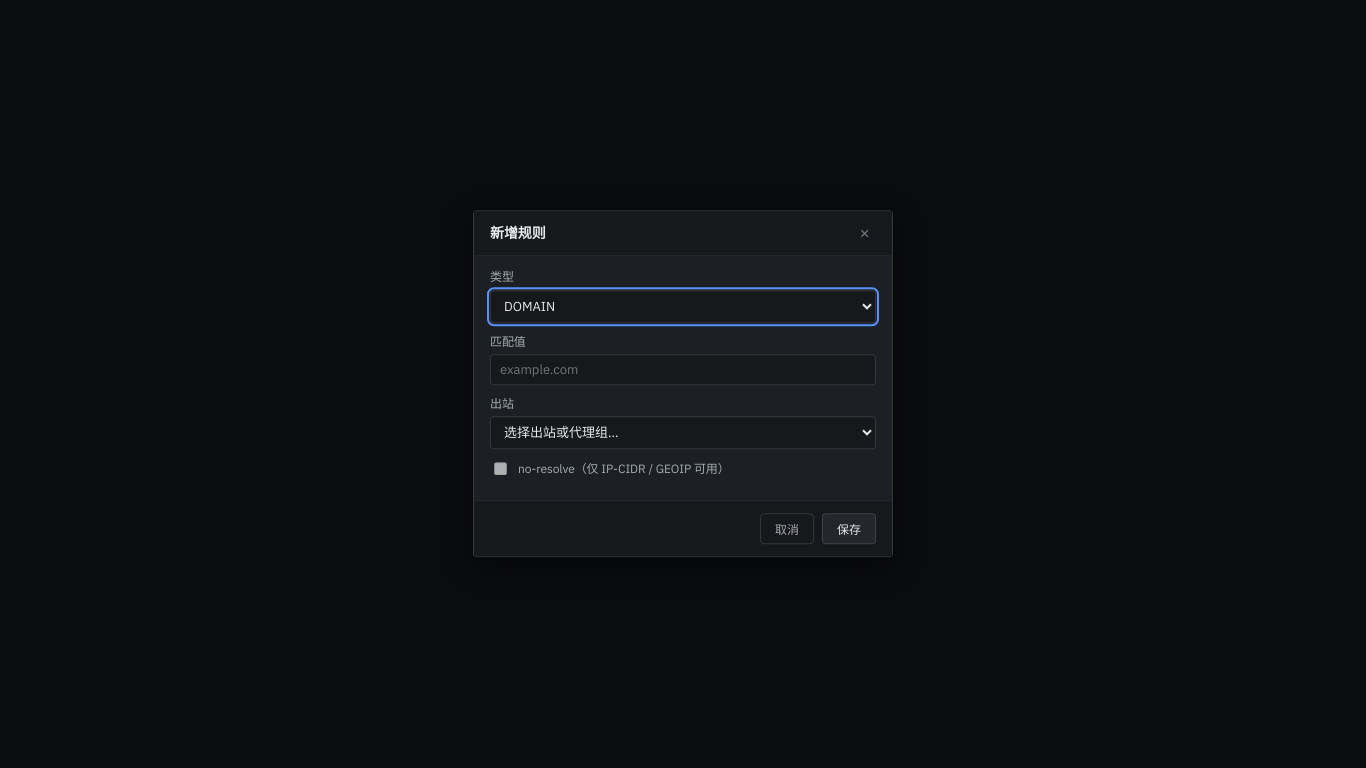
it: 规则表单 —— 新增 › 类型为 MATCH 时不显示匹配值输入框
Select "MATCH" in the dropdown labelled "类型" at (683, 306), box [490,290,876,323]
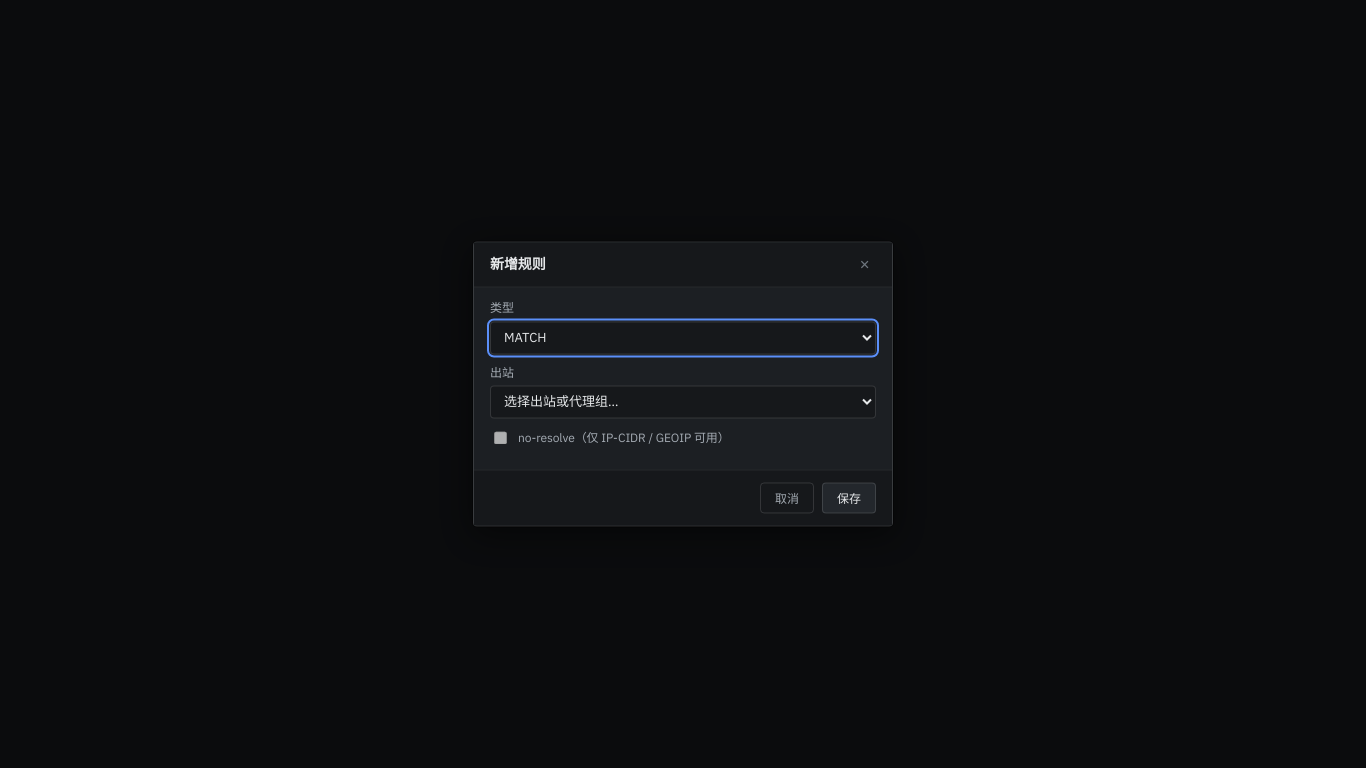
Now the label labelled "匹配值" is gone
